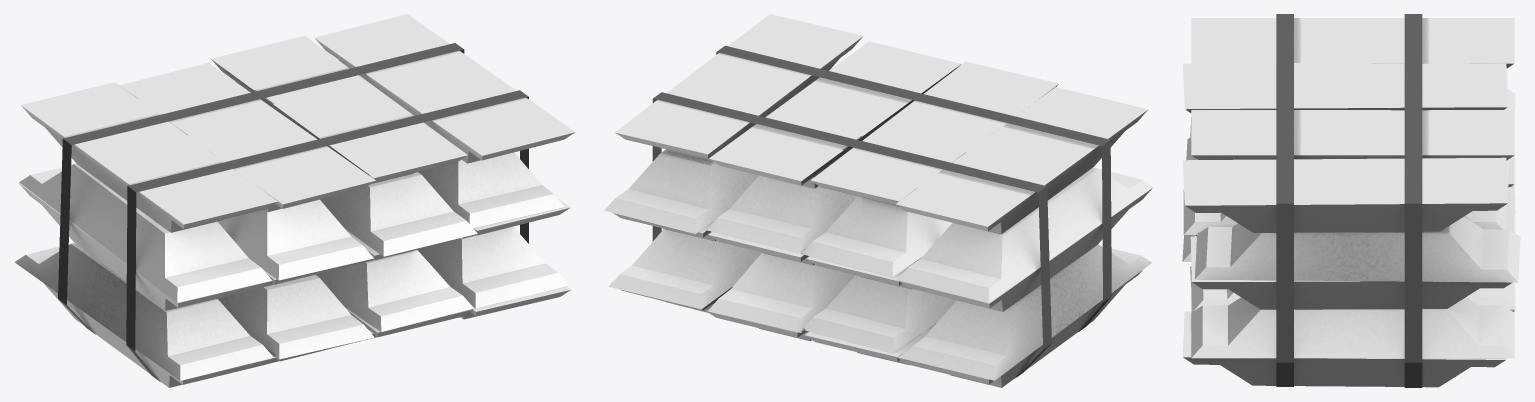
Rendered from tinBlocks_correct.fbx.
3 renders of one model, left to right at view 1: azimuth 30°, elevation 25°; view 2: azimuth 150°, elevation 25°; view 3: azimuth 270°, elevation 25°, orthographic.
Visible parts, largest first — view 1: tinBlocks_correct; view 2: tinBlocks_correct; view 3: tinBlocks_correct.
Part boxes in pixels (x1,y1,x2,y2): tinBlocks_correct: (14, 14, 575, 387); tinBlocks_correct: (604, 14, 1153, 387); tinBlocks_correct: (1182, 14, 1520, 387).
Size of the model in its own units: 0.7956 by 0.3754 by 0.5901.
Materials: 1 (1 with a texture image).
